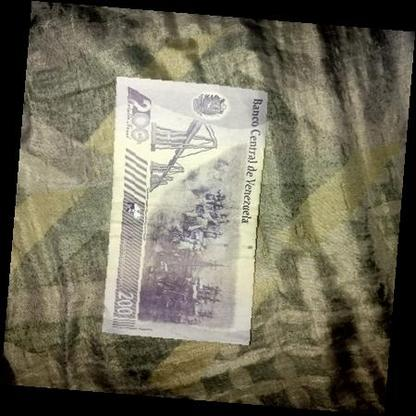two_hundred-back-vef: (100, 75, 268, 345)
